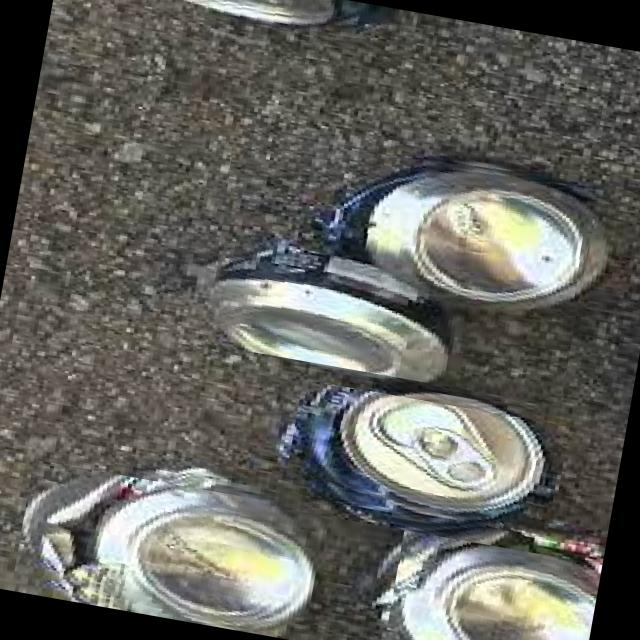Cans: (196, 117, 598, 406), (9, 459, 288, 635), (282, 378, 560, 538), (381, 529, 594, 640), (143, 0, 386, 47)
